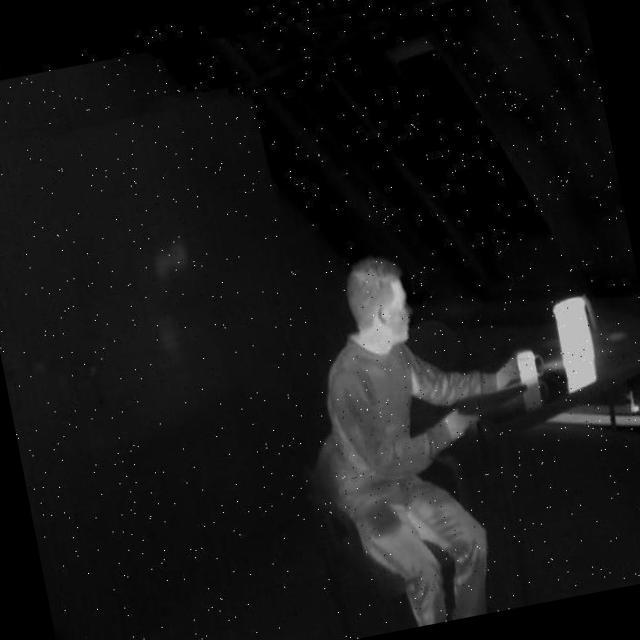person: (269, 222, 583, 640)
